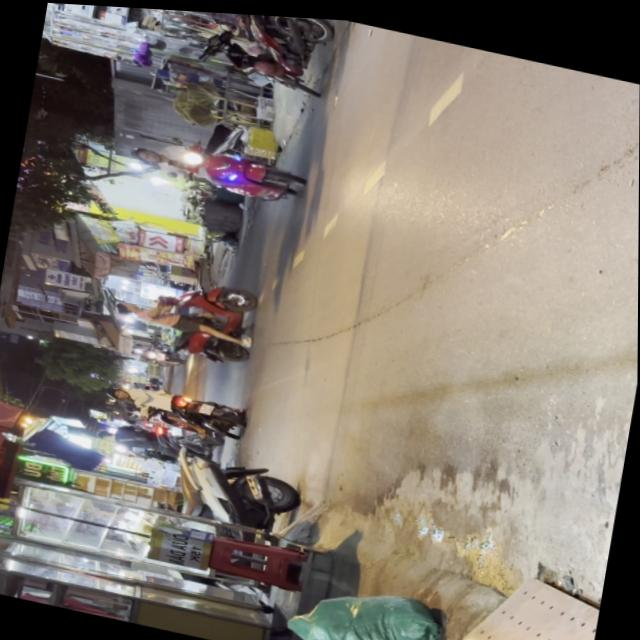licenseplate: (129, 6, 346, 99), (124, 126, 308, 206)
motorcyclist: (129, 142, 162, 162)
